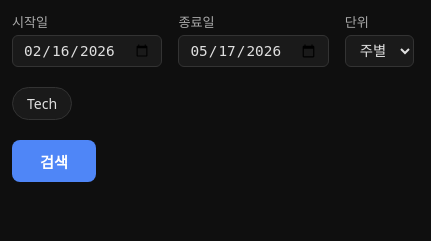
Test: 섹터 검색 탭 › 섹터를 하나도 선택하지 않고 검색하면 검증 오류를 보여준다
Click the button: x=54, y=161 top-left (12, 140), bottom-right (96, 182)
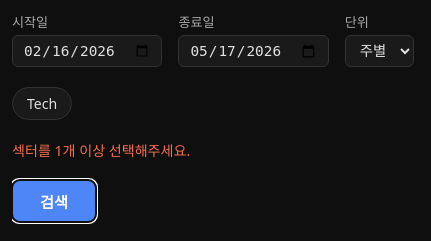
Expected: the text "섹터를 1개 이상 선택해주세요." is shown, top-left (12, 141), bottom-right (190, 160)
